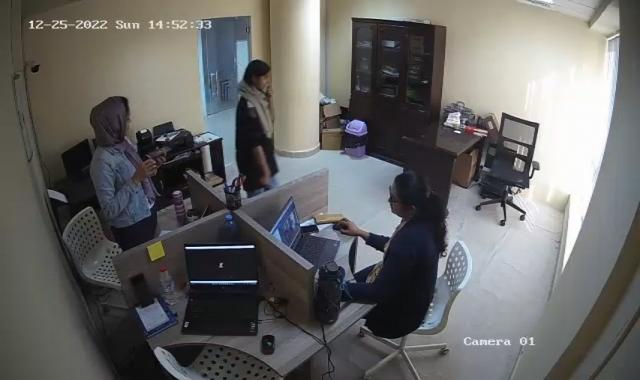no_hairnet: (388, 173, 434, 222), (93, 96, 131, 148), (242, 58, 272, 99)
